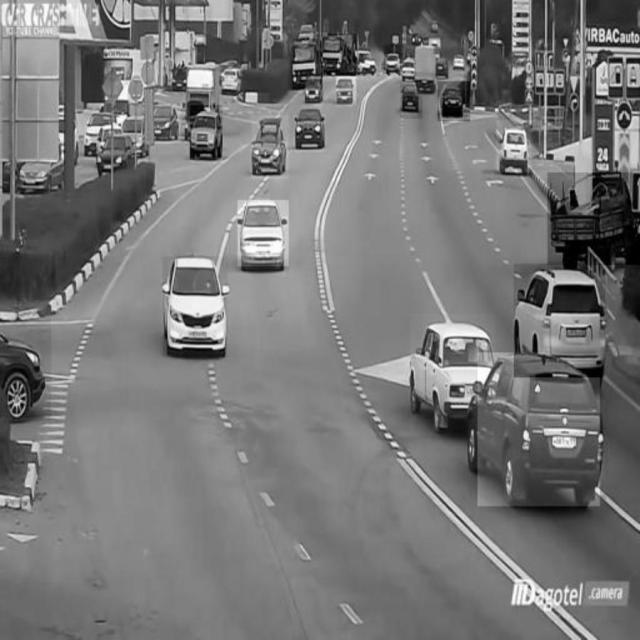vehicle: (478, 353, 600, 507), (514, 264, 605, 377), (410, 314, 494, 435), (547, 172, 640, 265), (163, 257, 227, 358), (0, 318, 51, 418), (238, 200, 289, 266), (252, 115, 289, 179), (496, 121, 531, 173), (189, 106, 223, 158), (291, 104, 325, 156), (95, 131, 136, 173), (292, 39, 322, 90), (320, 34, 356, 76), (438, 82, 470, 122), (414, 44, 438, 96), (155, 104, 182, 144), (399, 83, 423, 120), (337, 73, 357, 103), (385, 45, 402, 73)
